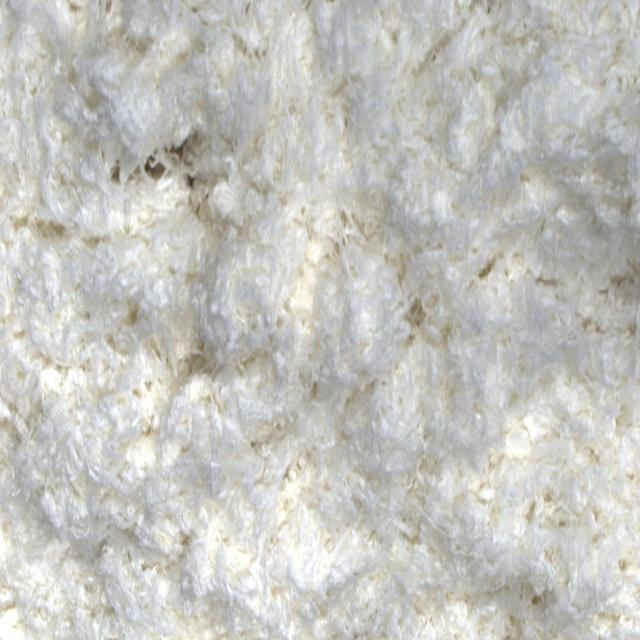dust: (140, 154, 177, 181)
